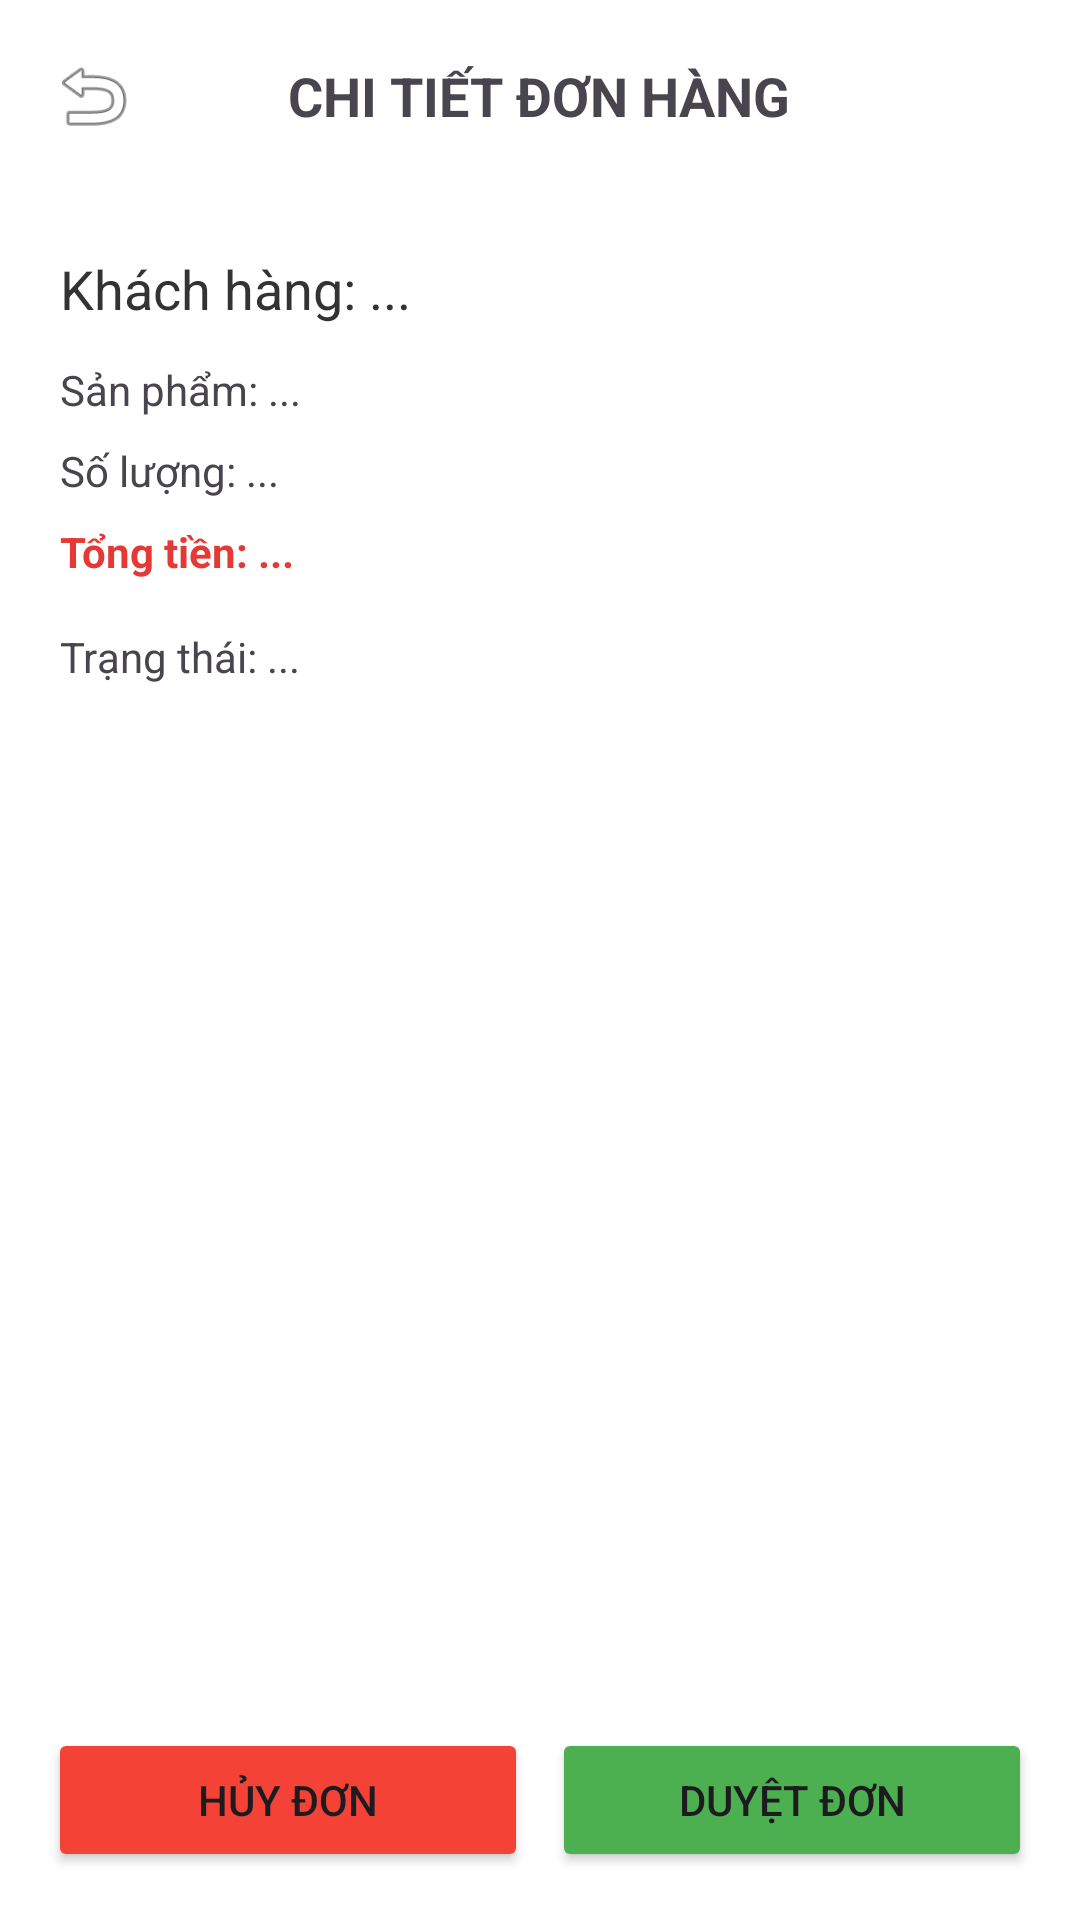

Named icons in this screenshot (1080 x 1920) and their bounding boxes, box=[x1, y1, x2, y2]:
revert: box=[62, 67, 127, 126]
